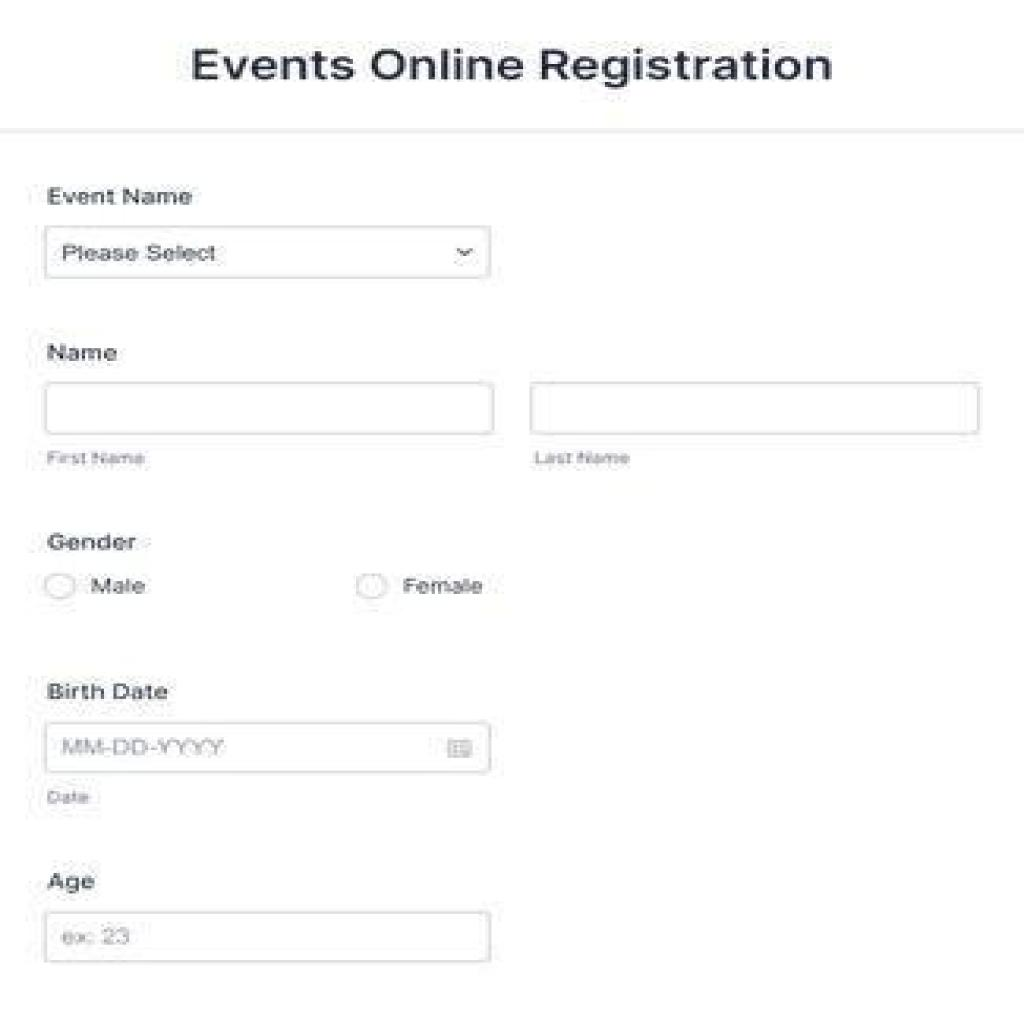dropdown: (41, 223, 495, 279)
input: (41, 906, 498, 968), (41, 379, 498, 438), (529, 379, 983, 438), (47, 716, 492, 776)
label: (186, 44, 835, 84), (44, 681, 173, 707), (48, 187, 196, 207), (44, 532, 139, 553), (400, 576, 485, 596), (44, 343, 123, 364), (44, 870, 104, 896), (88, 576, 145, 596)
radio: (44, 574, 79, 602), (356, 573, 388, 599)
